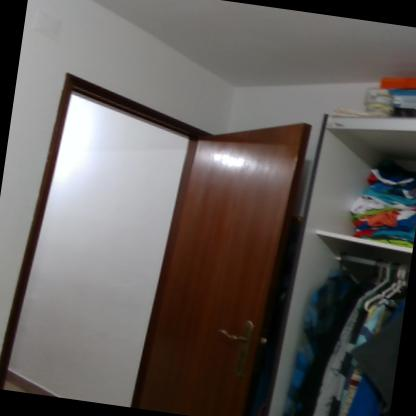open: (1, 65, 328, 415)
